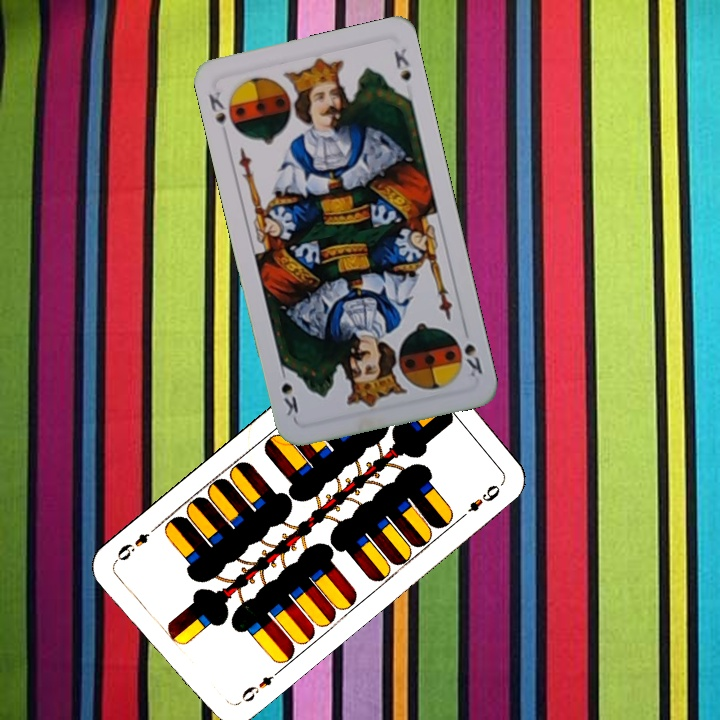E9: (231, 667, 282, 709)
SK: (204, 87, 231, 142), (460, 339, 485, 380)
